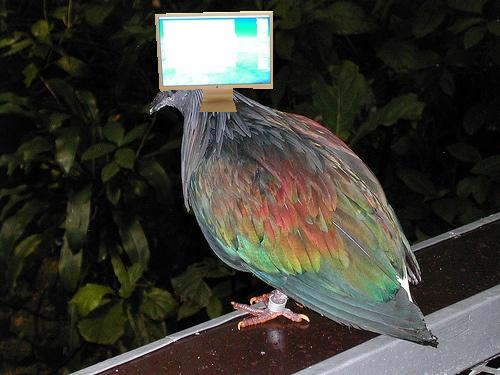tampered: (156, 12, 273, 112)
